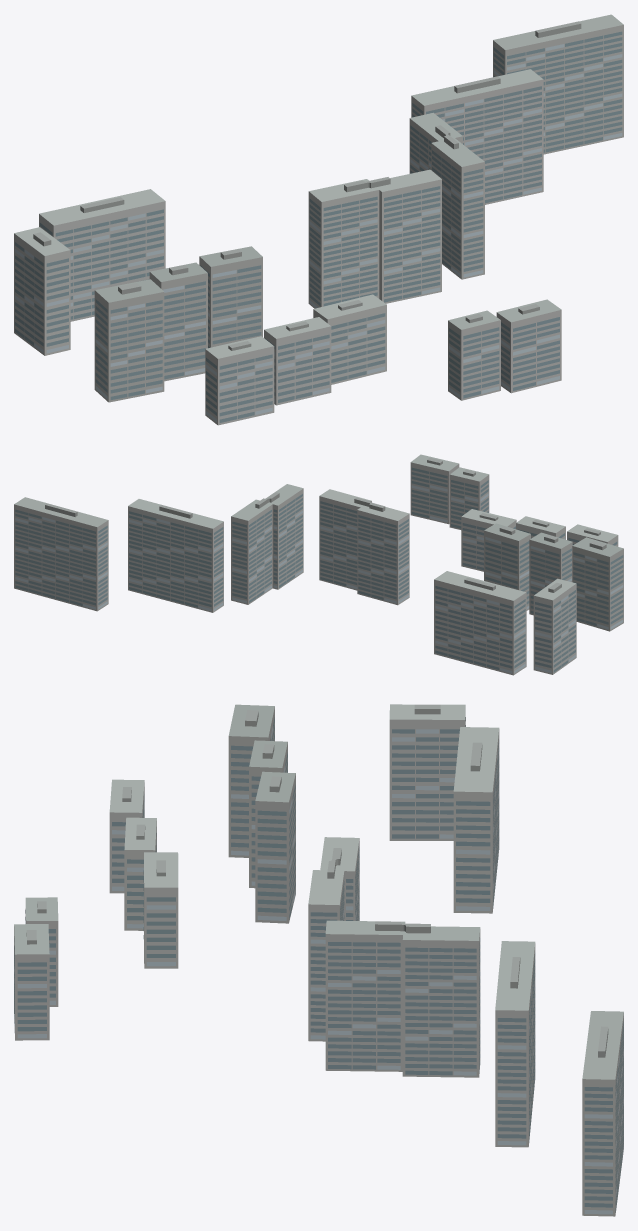
File: apt-a12181404.glb
The picture shows the model from 3 angles, top to bottom: view 1: azimuth 30°, elevation 25°; view 2: azimuth 150°, elevation 25°; view 3: azimuth 270°, elevation 25°; orthographic projection. The views are drawn at different scales.
Parts seen in each view (by area): view 1: apt-a12181404; view 2: apt-a12181404; view 3: apt-a12181404.
Boxes of the visible parts, x1,y1,x2,y2 form: apt-a12181404: [14, 14, 623, 425]; apt-a12181404: [14, 454, 623, 675]; apt-a12181404: [14, 704, 623, 1216].
Size of the model in its own units: 316 by 54 by 209.
